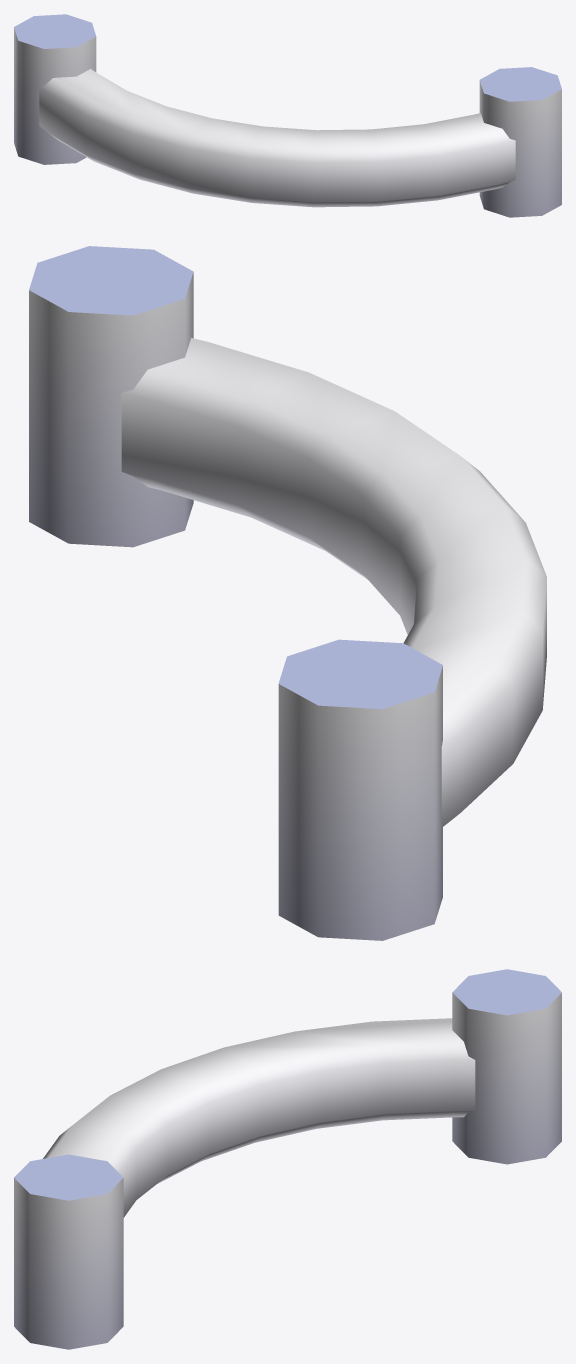
File: fence-low-corner-curved.glb
3 views of the same model, one above another, from view 1: azimuth 30°, elevation 25°; view 2: azimuth 150°, elevation 25°; view 3: azimuth 270°, elevation 25° (orthographic). The views are drawn at different scales.
Parts seen in each view (by area): view 1: fence-low-corner-curved; view 2: fence-low-corner-curved; view 3: fence-low-corner-curved.
Part boxes in pixels (x1,y1,x2,y2): fence-low-corner-curved: (14,14,561,217); fence-low-corner-curved: (29,246,546,940); fence-low-corner-curved: (14,969,561,1349).
Bounding box in the file's own units: 1 × 0.3 × 1.
